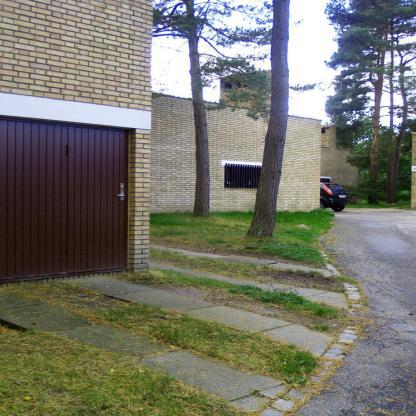door: (66, 128, 129, 270)
hinged: (66, 144, 71, 156)
lever: (116, 193, 125, 198)
